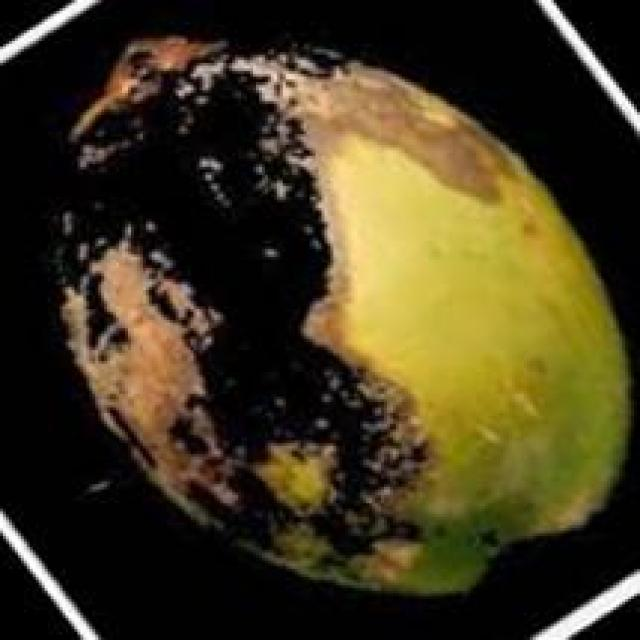damaged: (60, 38, 631, 604)
